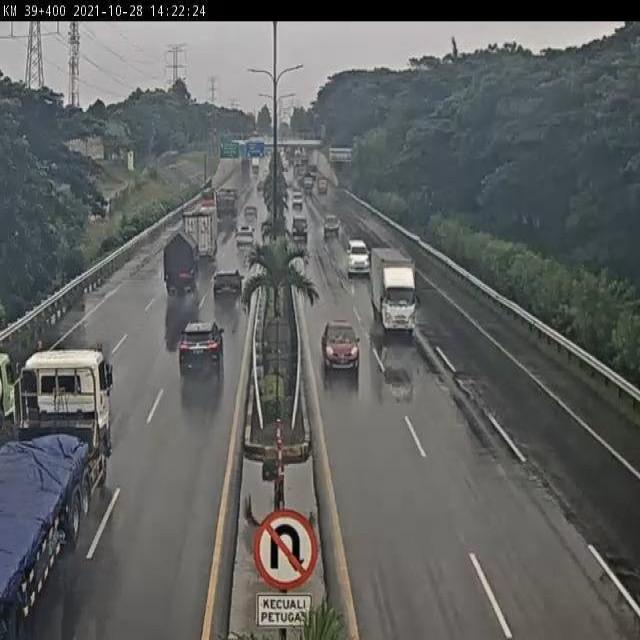car: (180, 317, 226, 379), (324, 318, 363, 378), (213, 265, 246, 303)
truck-l-: (183, 209, 219, 260)
truck-m-: (163, 230, 203, 298)
truck-s-: (368, 243, 421, 337)
truck-xl-: (0, 344, 113, 640)
